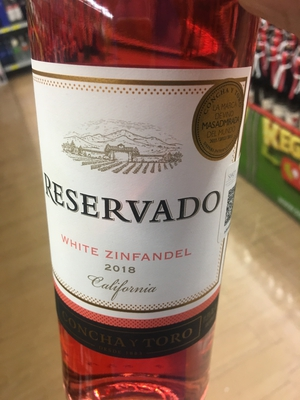reservado white zinfandel: (26, 2, 237, 400)
